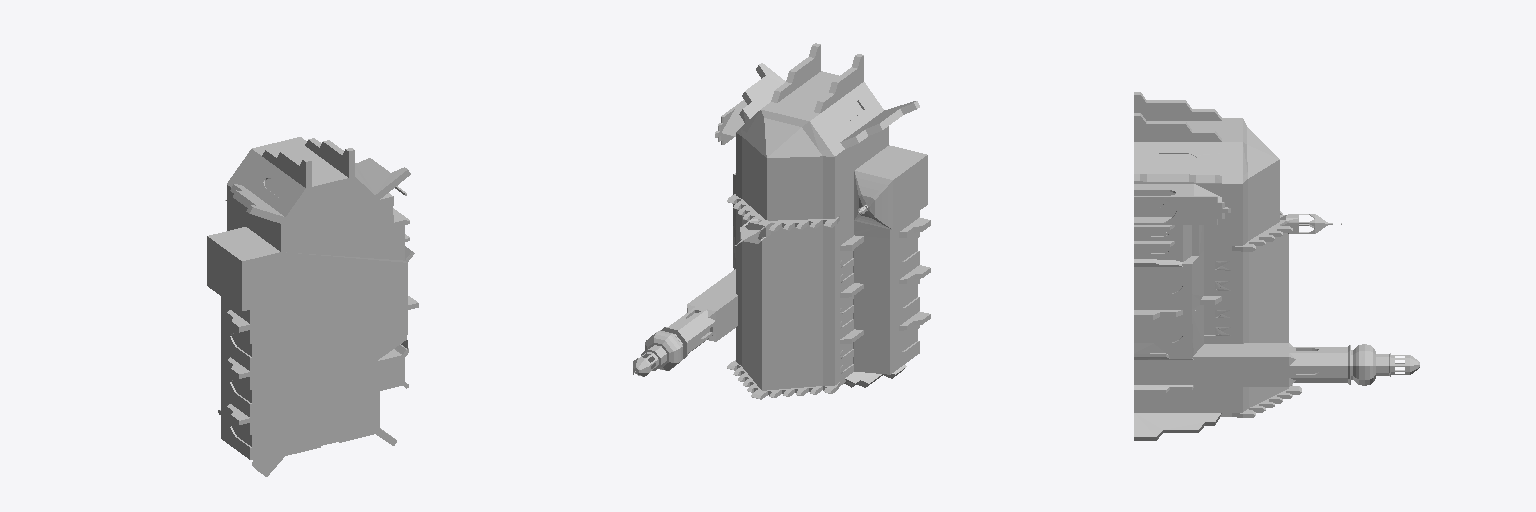
Rendered from Kościół św Jana Chrzciciela.obj.
3 renders of one model, left to right at view 1: azimuth 30°, elevation 25°; view 2: azimuth 150°, elevation 25°; view 3: azimuth 270°, elevation 25°, orthographic.
Parts seen in each view (by area): view 1: Cube_Cube.004; view 2: Cube_Cube.004; view 3: Cube_Cube.004.
Part boxes in pixels (x1,y1,x2,y2): Cube_Cube.004: (207, 137, 418, 476); Cube_Cube.004: (633, 43, 930, 399); Cube_Cube.004: (1134, 92, 1419, 440).
Size of the model in its own units: 0.0346 by 0.0564 by 0.0488.